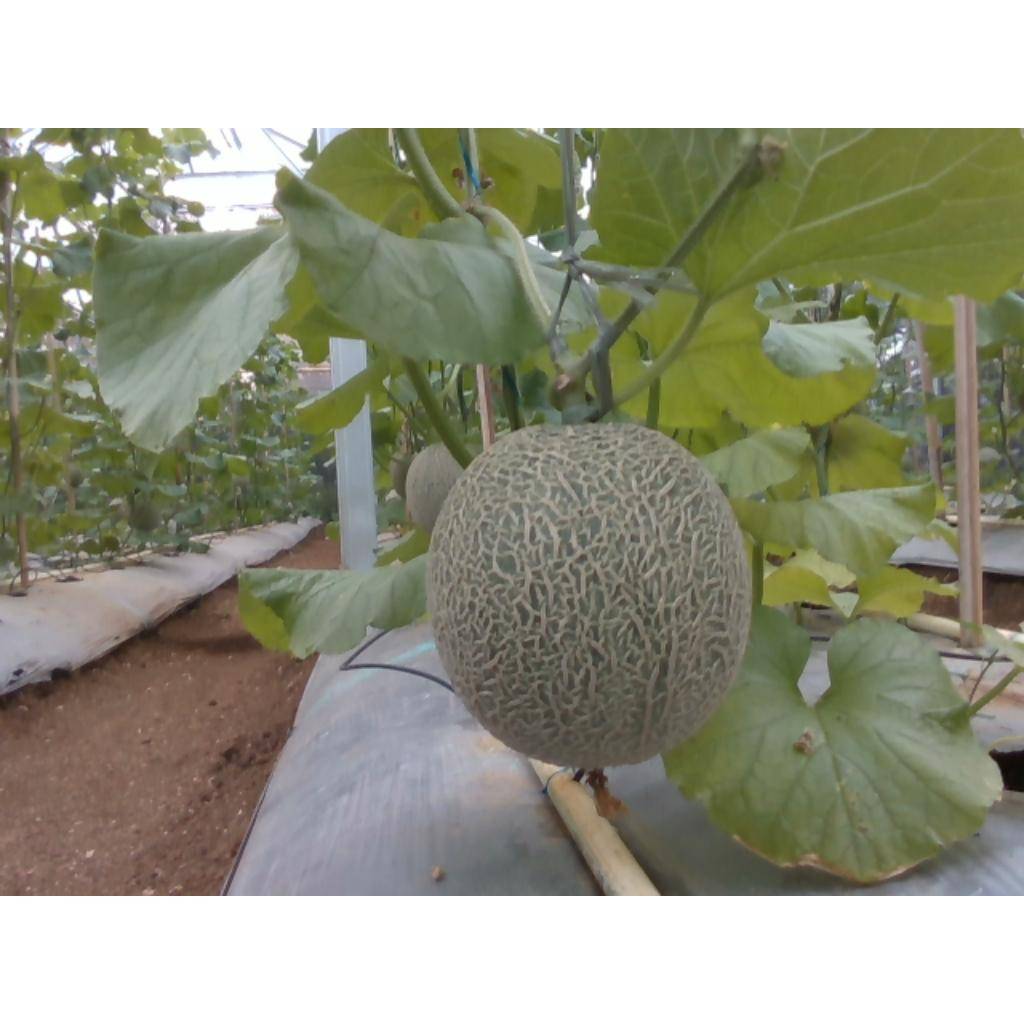melon: (429, 424, 750, 769)
